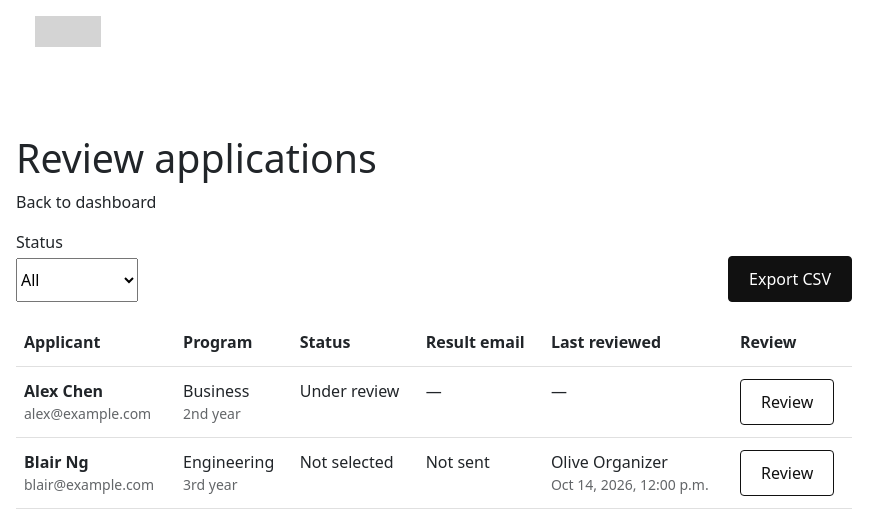
OrganizerReview › filters applications by status
Check: the column heading "Alex Chen" is shown, box [24,380,103,402]
Step 1. Select "Not selected" in the dropdown labelled "Status" → (77, 280), box [16,258,138,302]
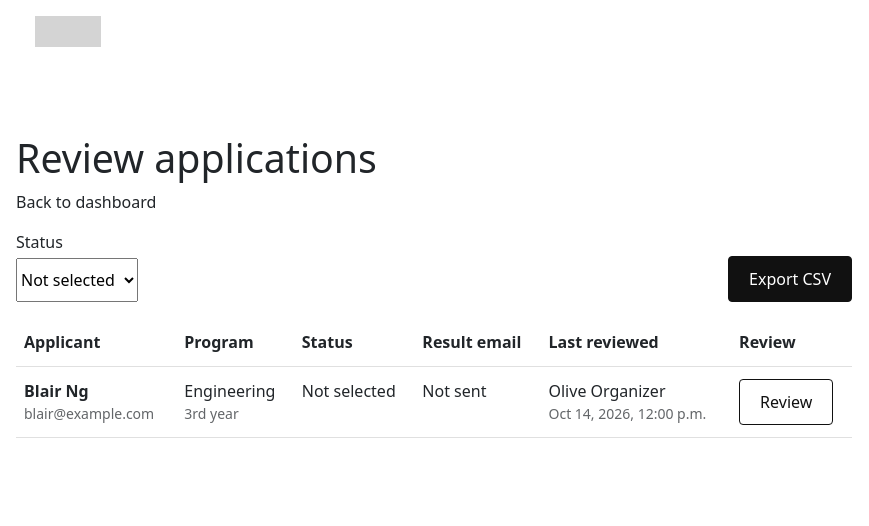
Check: the column heading "Blair Ng" is shown, box [24,380,89,402]
Check: the column heading "Alex Chen" is gone
